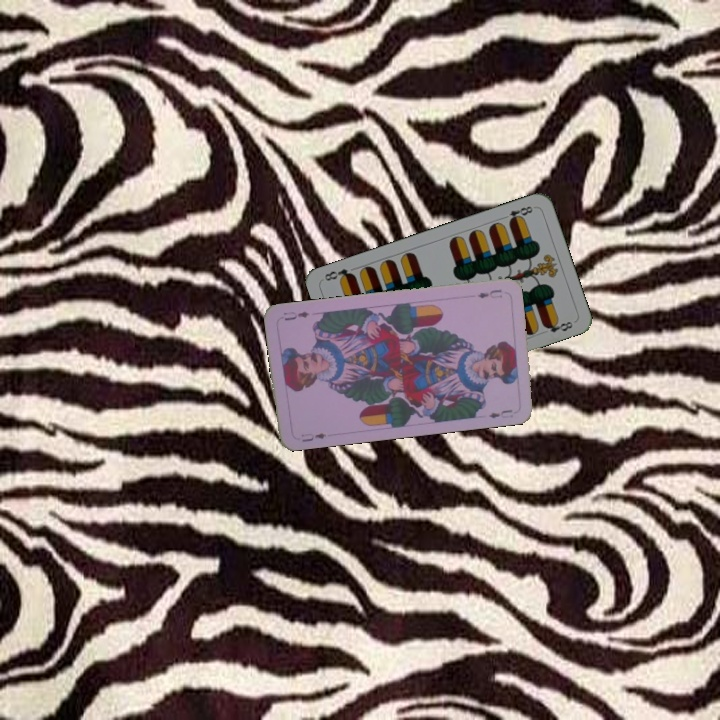E8: (498, 202, 537, 226)
EU: (297, 429, 328, 445), (473, 286, 505, 301)
